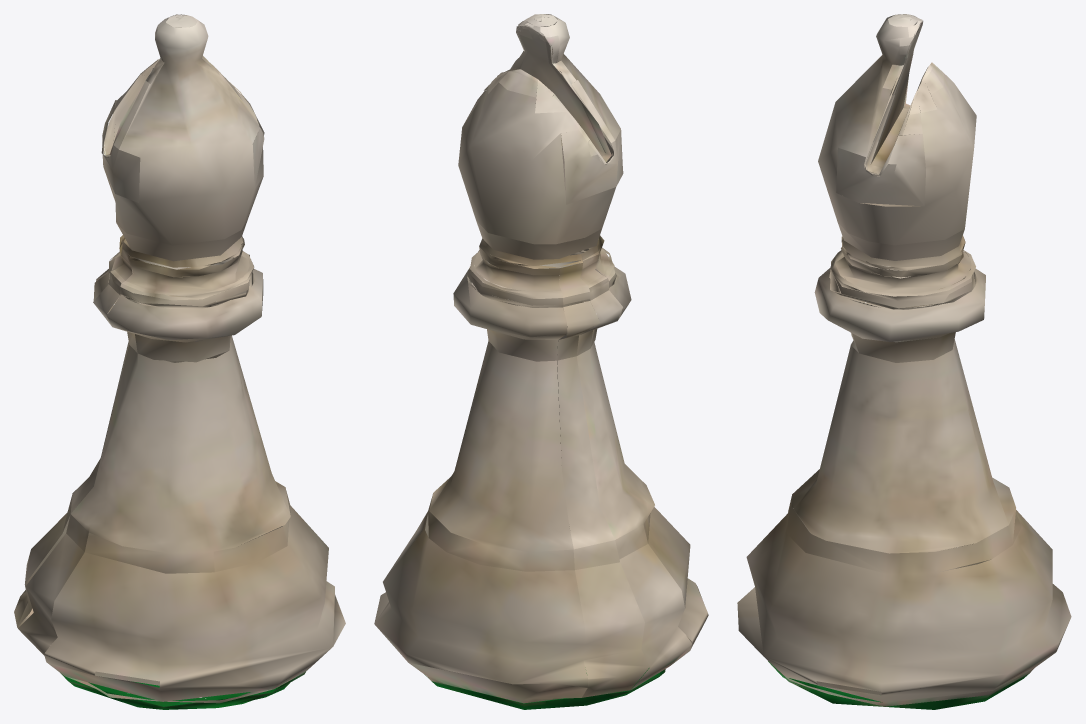
3 renders of one model, left to right at view 1: azimuth 30°, elevation 25°; view 2: azimuth 150°, elevation 25°; view 3: azimuth 270°, elevation 25°, orthographic.
Parts seen in each view (by area): view 1: WB.001; view 2: WB.001; view 3: WB.001.
Boxes of the visible parts, x1,y1,x2,y2 form: WB.001: (14, 14, 345, 709); WB.001: (374, 14, 708, 709); WB.001: (737, 14, 1071, 709).
Size of the model in its own units: 0.0362 by 0.0772 by 0.0365.
1 material, 1 textured.
